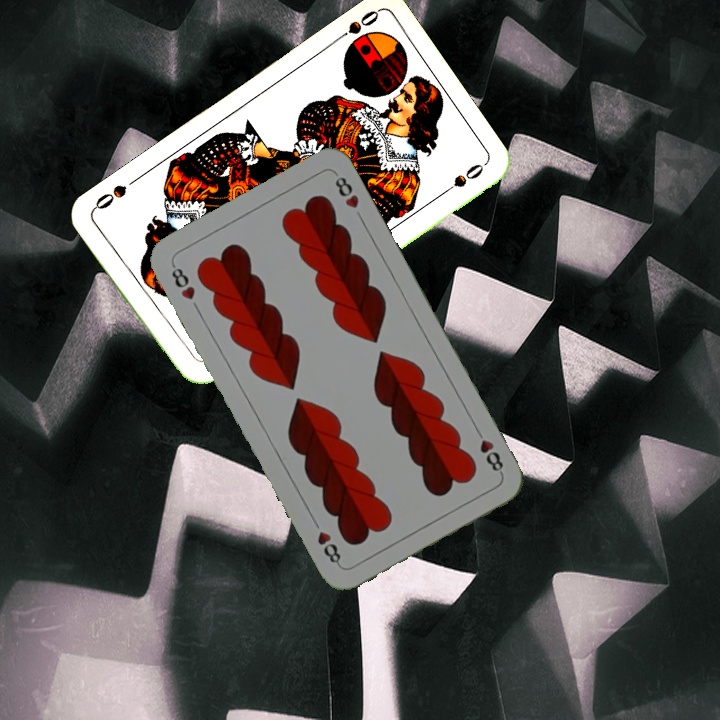H8: (471, 423, 506, 478), (167, 260, 198, 303)
SO: (328, 6, 382, 47)
